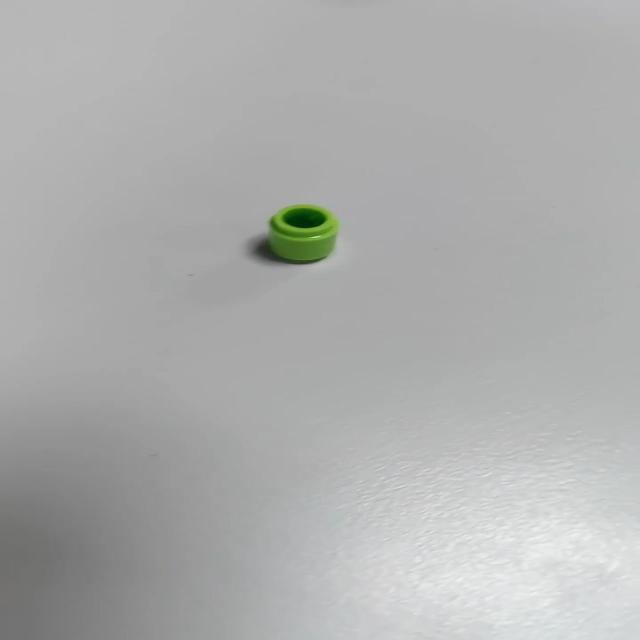S1x1x1: (251, 204, 343, 266)
